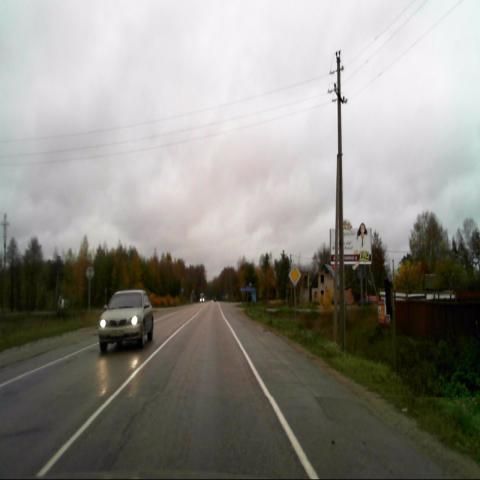2_1: (287, 263, 301, 287)
